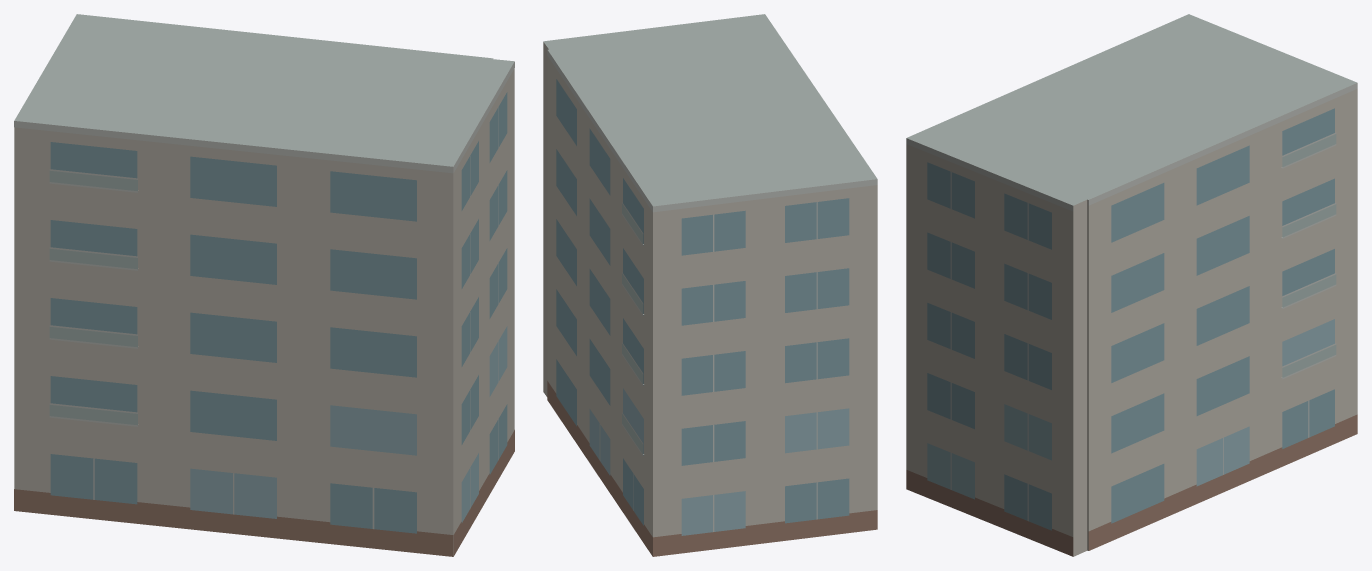
File: survey-upis-32885757.glb
3 views of the same model, side by side, from view 1: azimuth 30°, elevation 25°; view 2: azimuth 150°, elevation 25°; view 3: azimuth 270°, elevation 25° (orthographic). The views are drawn at different scales.
Visible parts, largest first — view 1: survey-upis-32885757.tmp; view 2: survey-upis-32885757.tmp; view 3: survey-upis-32885757.tmp.
Boxes of the visible parts, x1=… form: survey-upis-32885757.tmp: x1=14, y1=14, x2=514, y2=556; survey-upis-32885757.tmp: x1=543, y1=14, x2=877, y2=556; survey-upis-32885757.tmp: x1=906, y1=14, x2=1357, y2=556.
Bounding box in the file's own units: 17.11 × 14.6 × 17.02.
